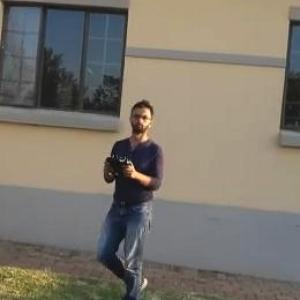follow: (90, 94, 165, 299)
